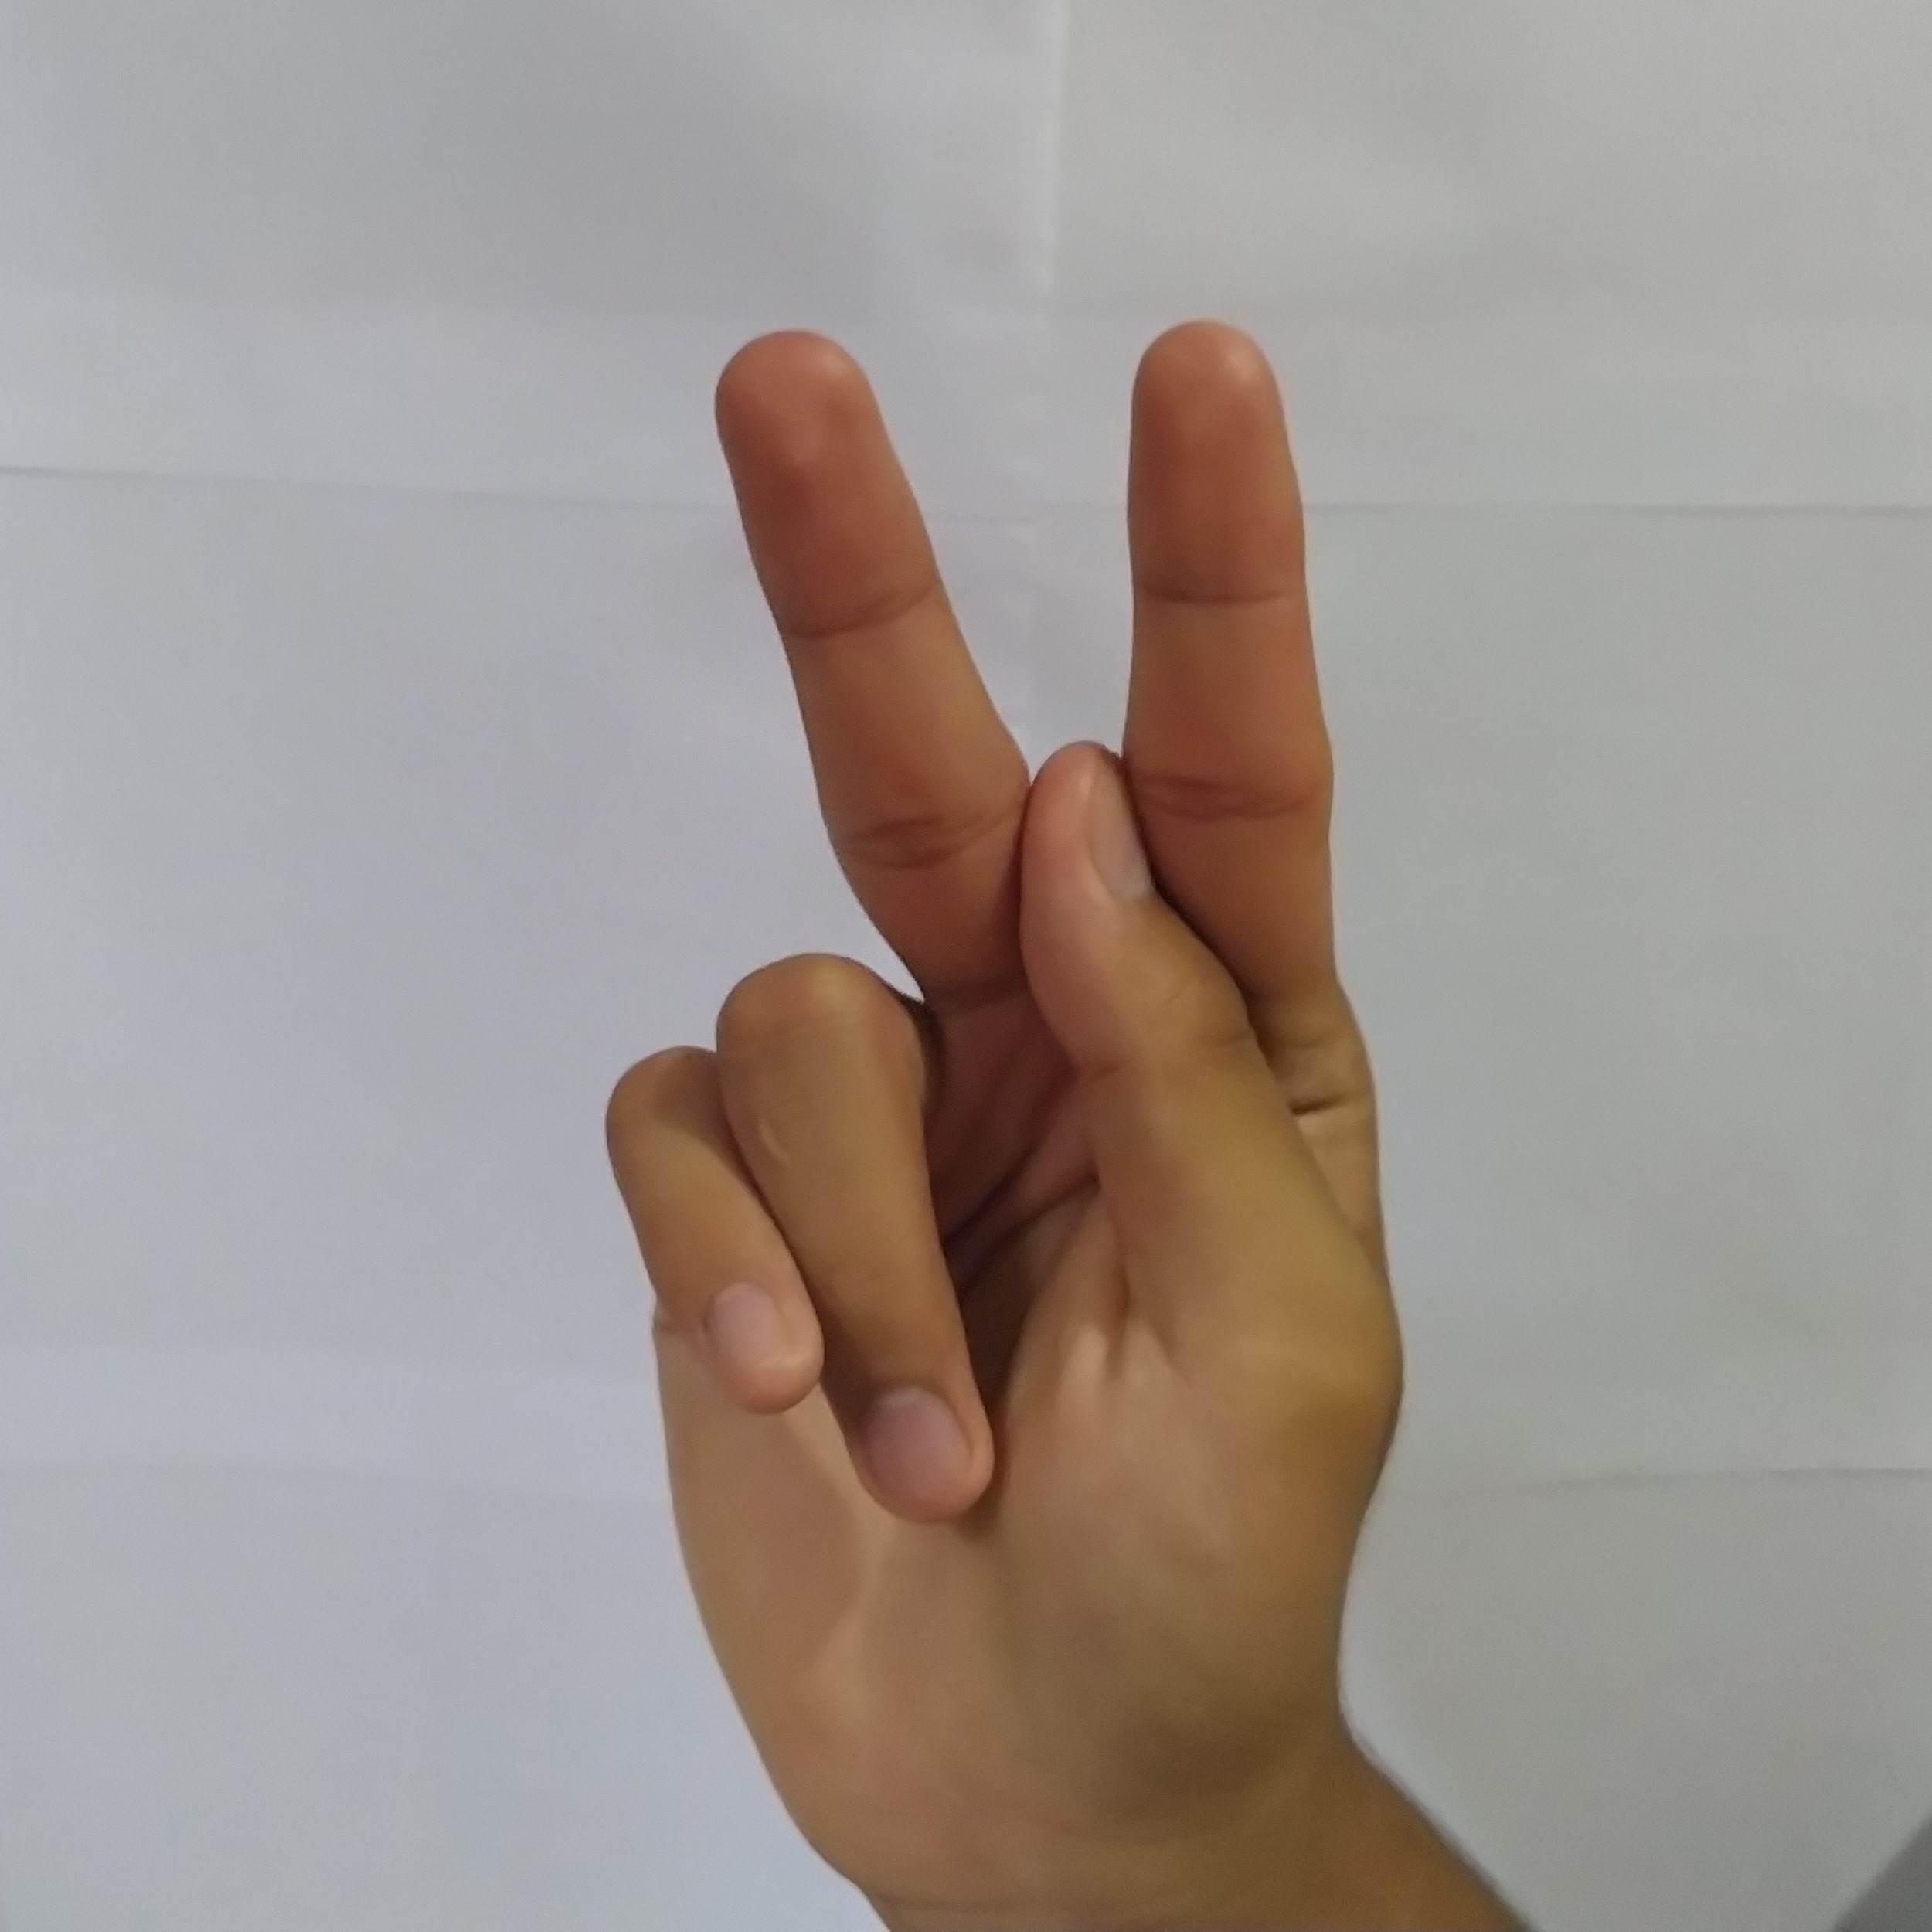K: (586, 292, 1433, 1732)
